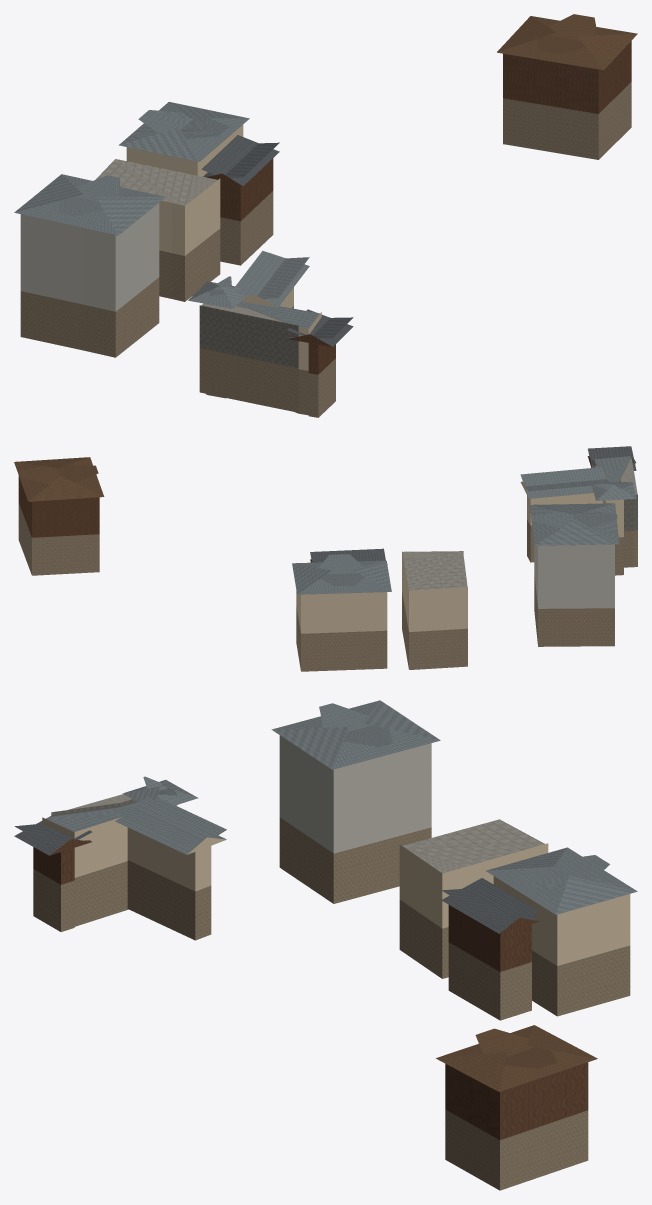
The model's file is bld_c9_18_427.gltf.
3 renders of one model, top to bottom at view 1: azimuth 30°, elevation 25°; view 2: azimuth 150°, elevation 25°; view 3: azimuth 270°, elevation 25°, orthographic. The views are drawn at different scales.
Parts seen in each view (by area): view 1: bld_c9_18_427; view 2: bld_c9_18_427; view 3: bld_c9_18_427.
Part boxes in pixels (left/top/right/bottom): bld_c9_18_427: left=14, top=14, right=637, bottom=417; bld_c9_18_427: left=14, top=446, right=637, bottom=671; bld_c9_18_427: left=14, top=700, right=637, bottom=1190.
Bounding box in the file's own units: 78.81 × 16.5 × 57.21.
12 materials, 12 textured.
